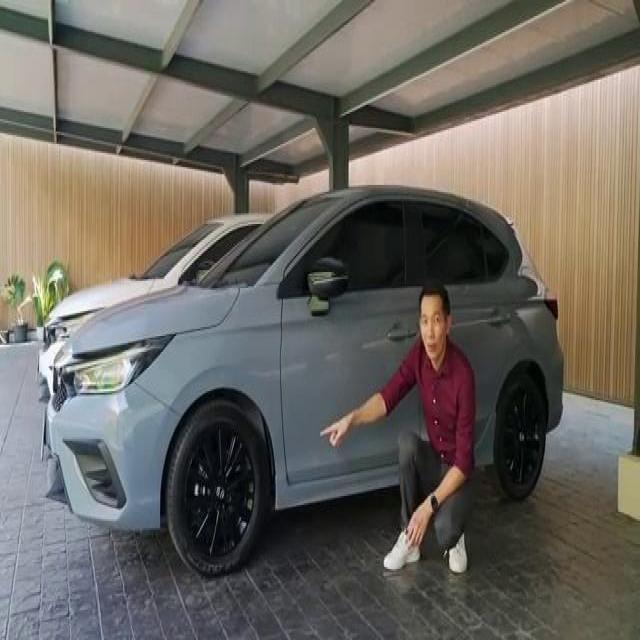Hatchback: (42, 185, 563, 576), (40, 215, 267, 400)
